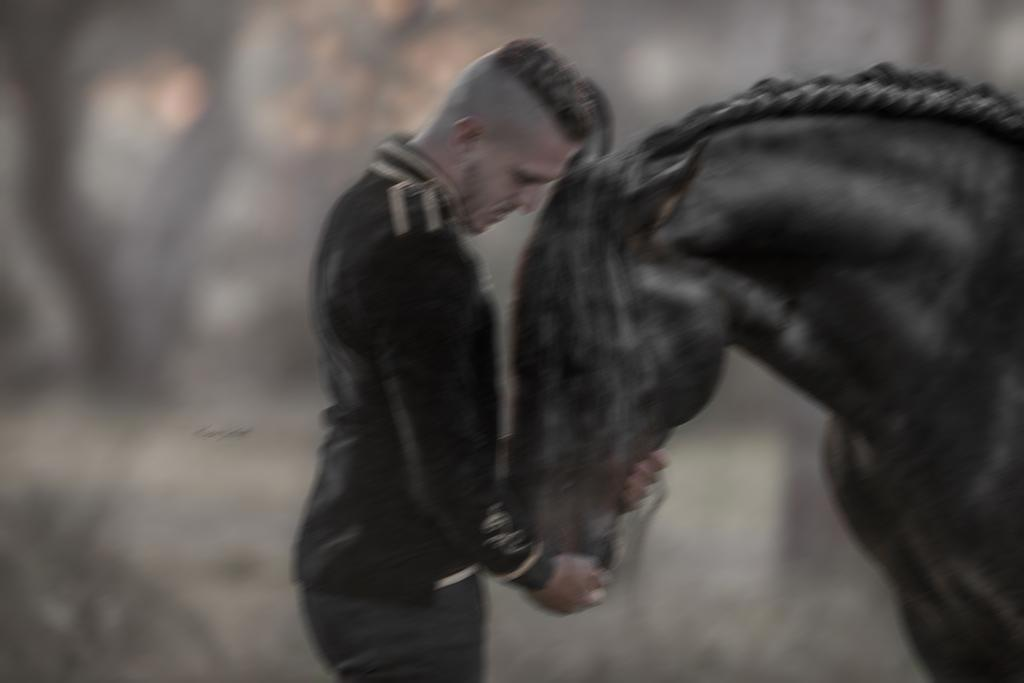horse: (500, 61, 1024, 680)
